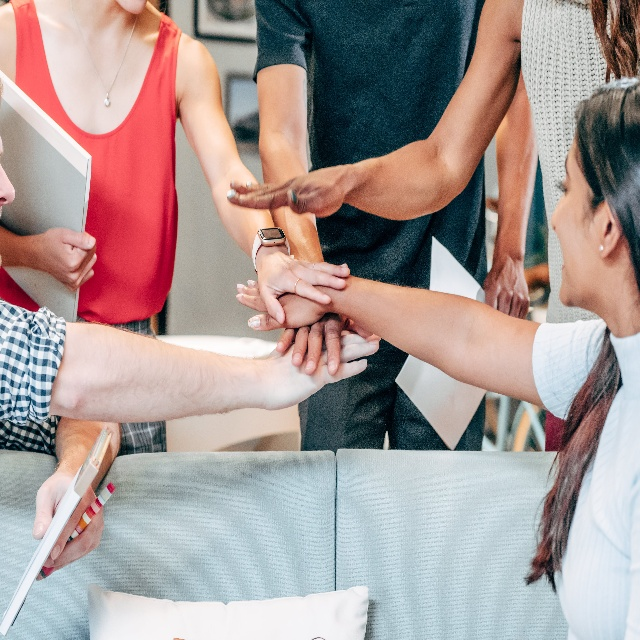Sin_guantes: (261, 333, 380, 413), (33, 459, 106, 582), (256, 245, 351, 326), (226, 162, 345, 214), (276, 314, 372, 374), (234, 278, 338, 331), (39, 226, 97, 293), (482, 257, 530, 320)
